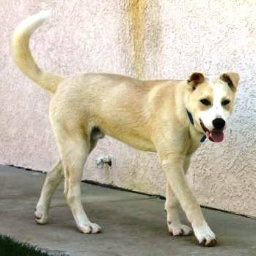dog: (22, 26, 236, 245)
